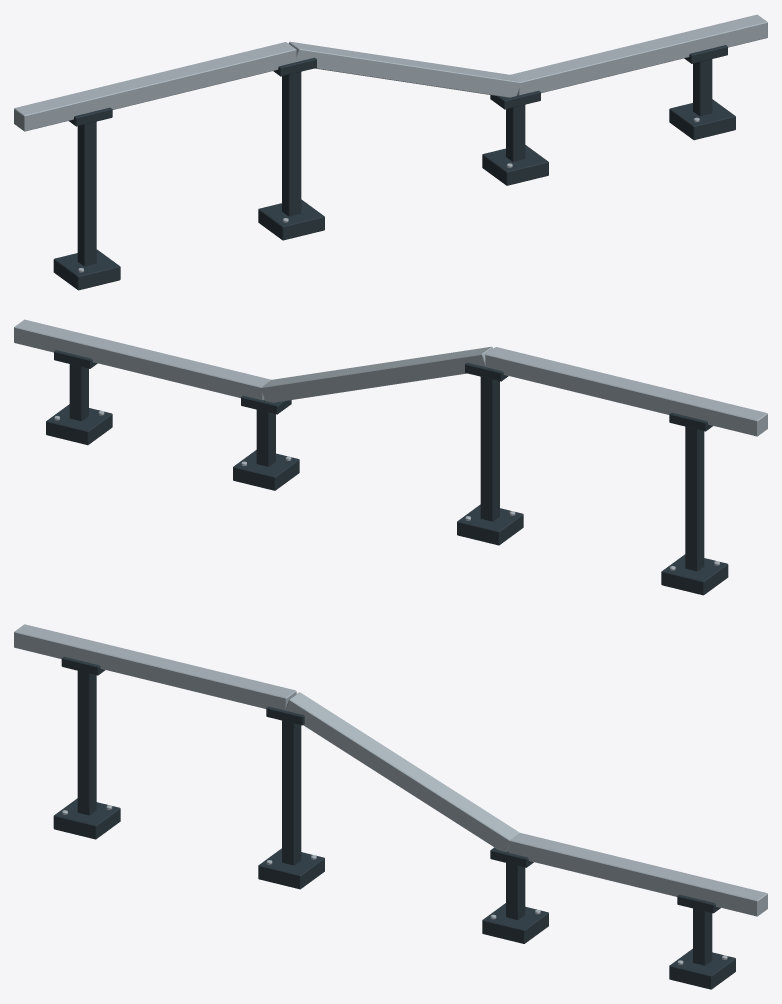
File: b09_kinked_grind_rail.glb
3 renders of one model, top to bottom at view 1: azimuth 30°, elevation 25°; view 2: azimuth 150°, elevation 25°; view 3: azimuth 330°, elevation 25°, orthographic.
Visible parts, largest first — view 1: b09_kinked_grind_rail; view 2: b09_kinked_grind_rail; view 3: b09_kinked_grind_rail.
Part boxes in pixels (bbox=[...]): b09_kinked_grind_rail: bbox=[14, 14, 767, 290]; b09_kinked_grind_rail: bbox=[14, 319, 767, 595]; b09_kinked_grind_rail: bbox=[14, 624, 767, 989].
Bounding box in the file's own units: 3.82 × 0.89 × 0.22.
